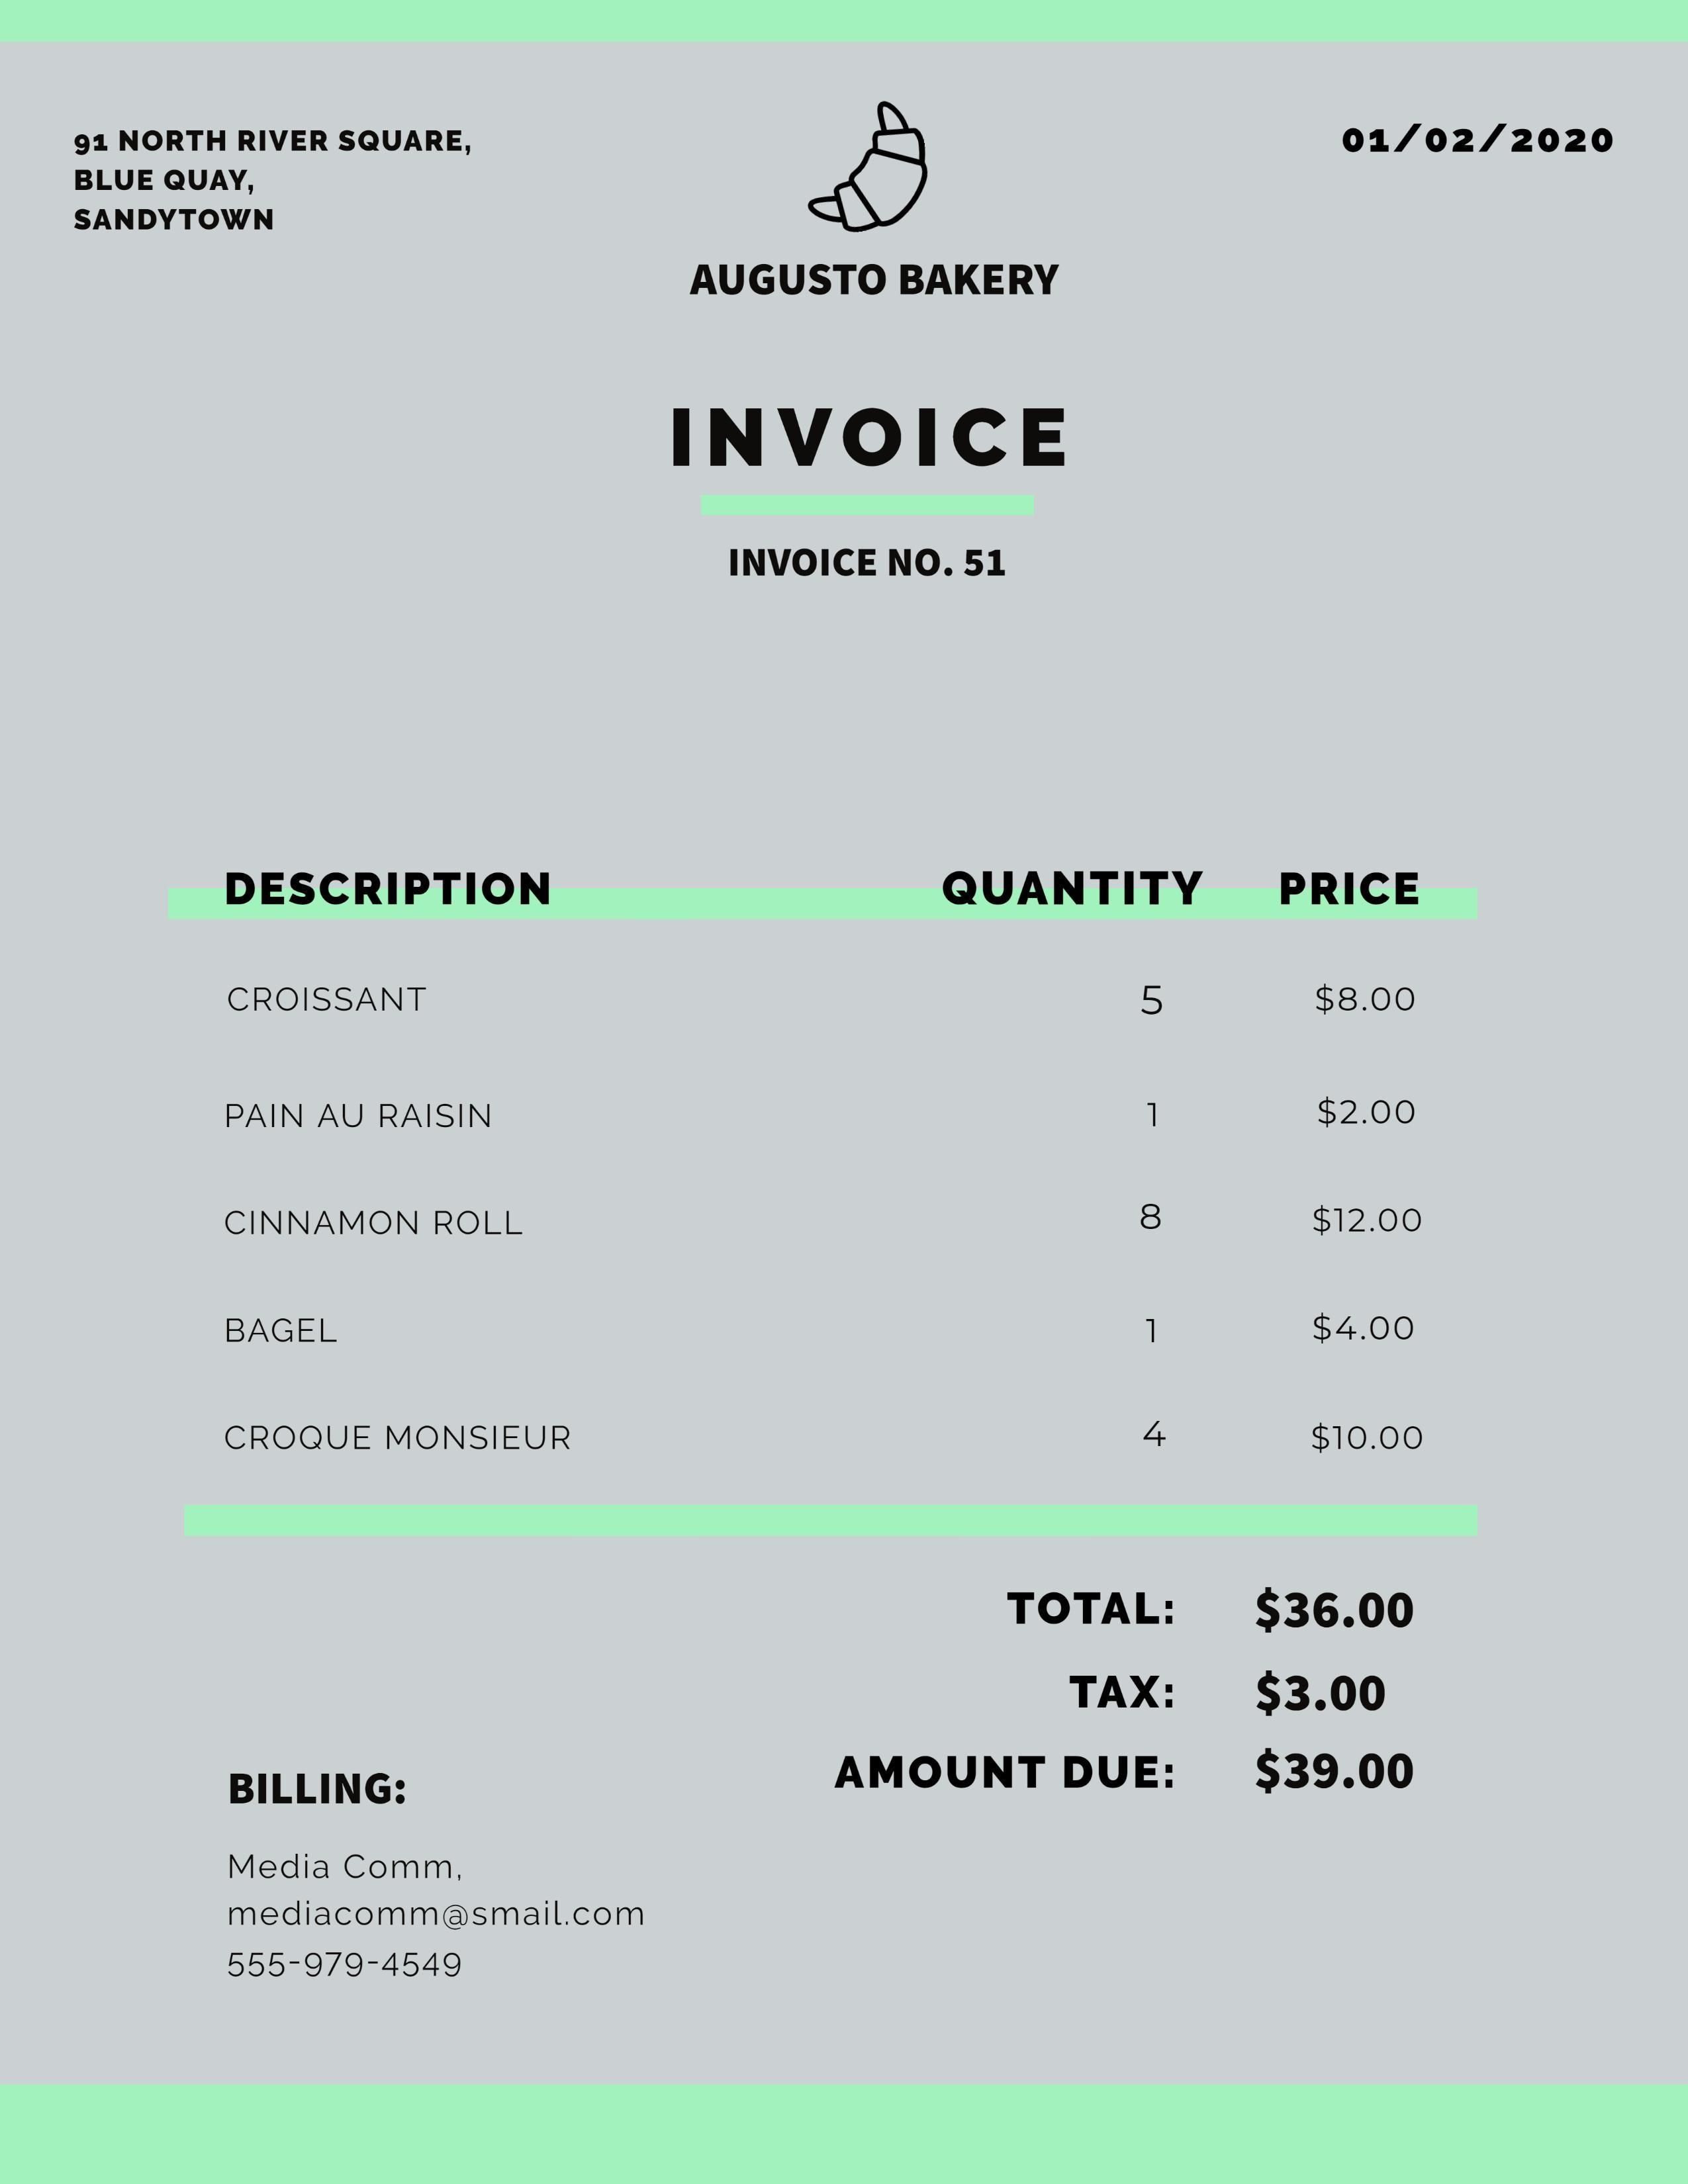ROI: (167, 858, 1479, 1486), (823, 1521, 1489, 1799), (211, 1767, 670, 2001), (665, 248, 1085, 310), (715, 537, 1021, 599)
